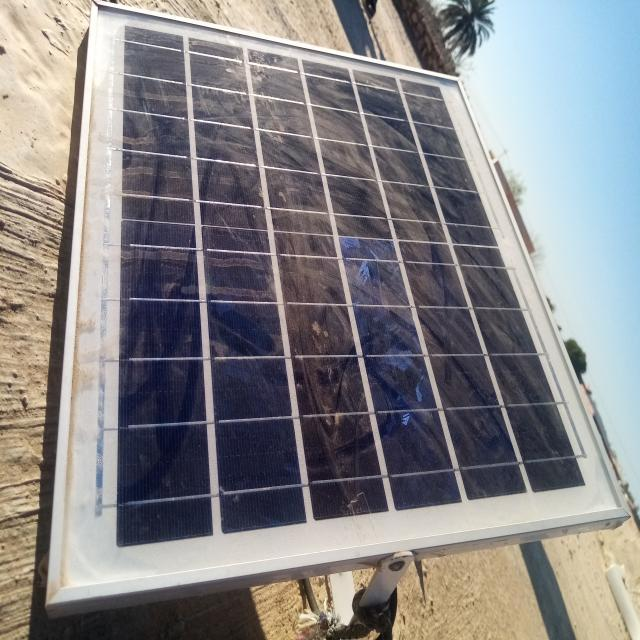faulty: (47, 1, 631, 606)
